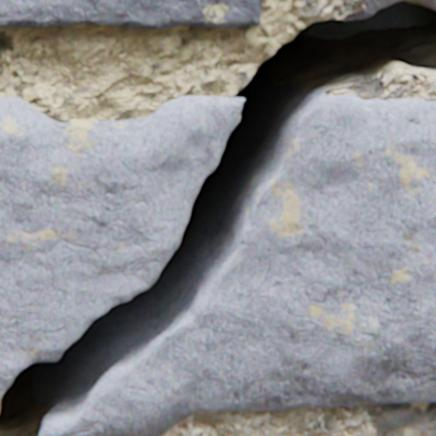brick: (0, 0, 261, 29)
broken_brick: (39, 95, 435, 435), (0, 96, 244, 411), (363, 0, 401, 13), (414, 0, 435, 9)
crack: (0, 0, 435, 435)
